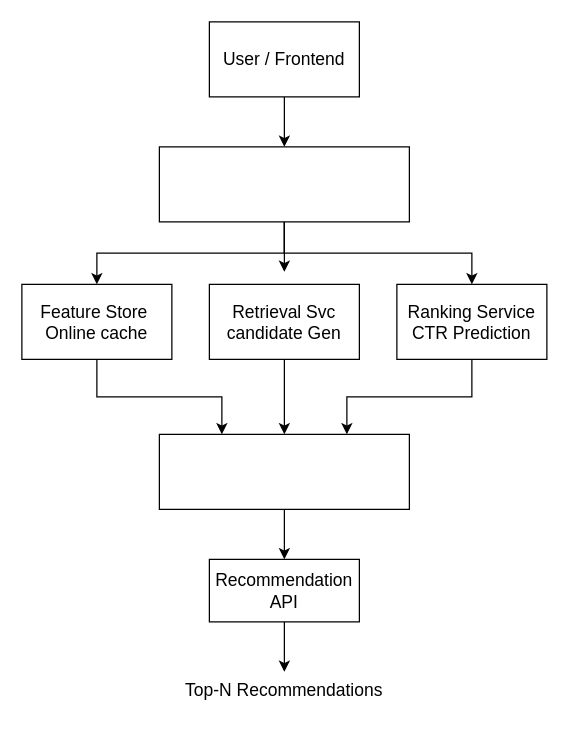
Some shapes in this 569 by 731 pixel diagram are drawn without their labels. The centre of each missing label's shape, as x and y in pixels:
Re-ranking / Business Rules: the point at 283,471
Recommendation API (FastAPI Gateway): the point at 283,184
